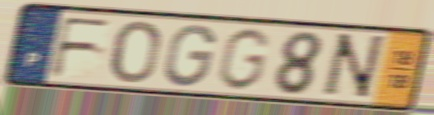8: (272, 29, 325, 97)
F: (47, 15, 115, 80)
G: (214, 26, 274, 93), (161, 22, 219, 89)
N: (317, 31, 389, 101)
O: (108, 19, 162, 85)
